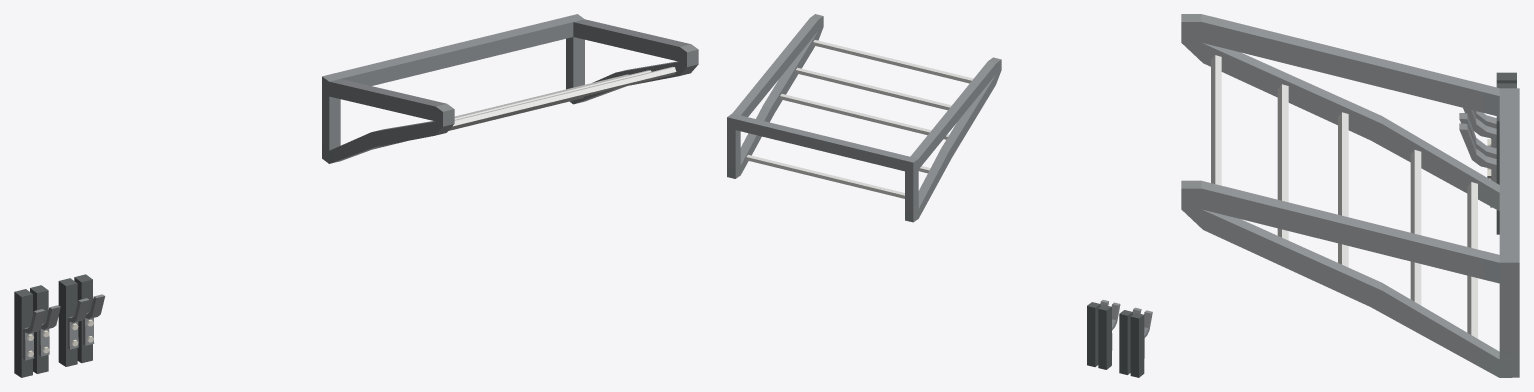
File: gym_decoration_2_v2.glb
3 renders of one model, left to right at view 1: azimuth 30°, elevation 25°; view 2: azimuth 150°, elevation 25°; view 3: azimuth 270°, elevation 25°, orthographic. The views are drawn at different scales.
Visible parts, largest first — view 1: GymEquipments_14_GymEquipments_SG_0.001; view 2: GymEquipments_14_GymEquipments_SG_0.001; view 3: GymEquipments_14_GymEquipments_SG_0.001.
Boxes of the visible parts, box(x1,y1,x2,y2) form: GymEquipments_14_GymEquipments_SG_0.001: box(14, 14, 698, 377); GymEquipments_14_GymEquipments_SG_0.001: box(727, 14, 1152, 377); GymEquipments_14_GymEquipments_SG_0.001: box(1181, 14, 1519, 377).
Bounding box in the file's own units: 1.73 × 0.8013 × 0.6415.
Materials: 2 (2 with a texture image).
